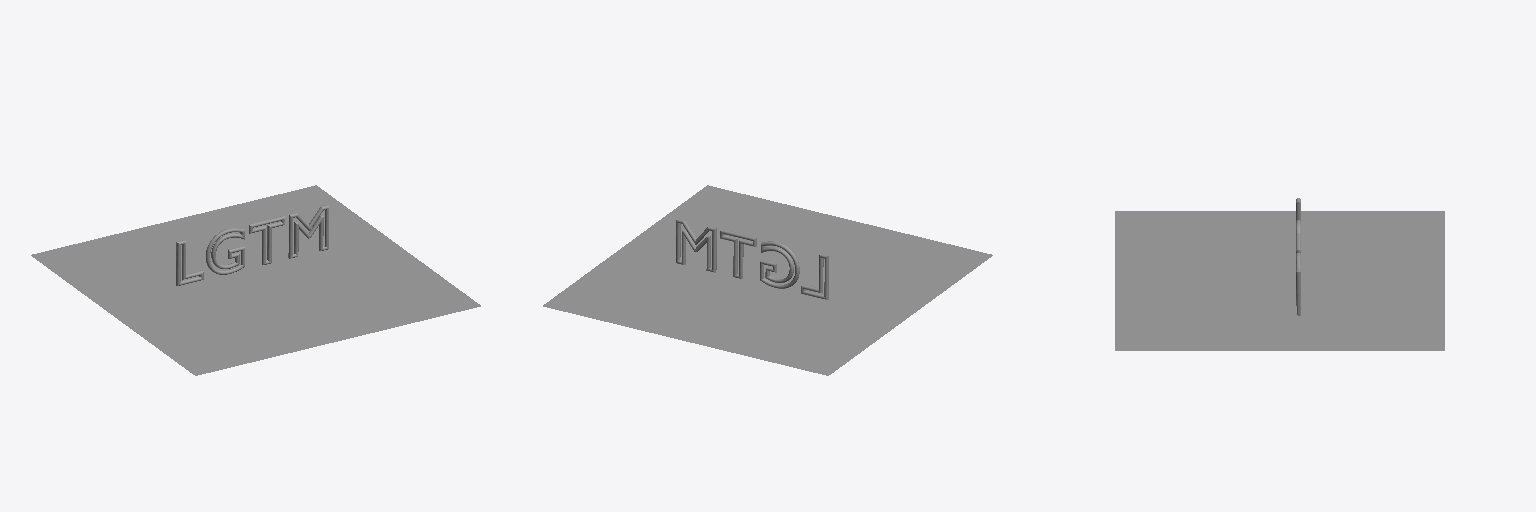
File: neonLGTM.obj
3 renders of one model, left to right at view 1: azimuth 30°, elevation 25°; view 2: azimuth 150°, elevation 25°; view 3: azimuth 270°, elevation 25°, orthographic.
Visible parts, largest first — view 1: Plane, Text; view 2: Plane, Text; view 3: Plane, Text.
Part boxes in pixels (x1,y1,x2,y2): Plane: (31,185,480,375); Text: (176,205,328,285); Plane: (543,185,992,375); Text: (676,218,828,299); Plane: (1115,211,1444,350); Text: (1296,198,1300,315).
Bounding box in the file's own units: 7.08 × 1.17 × 7.08.